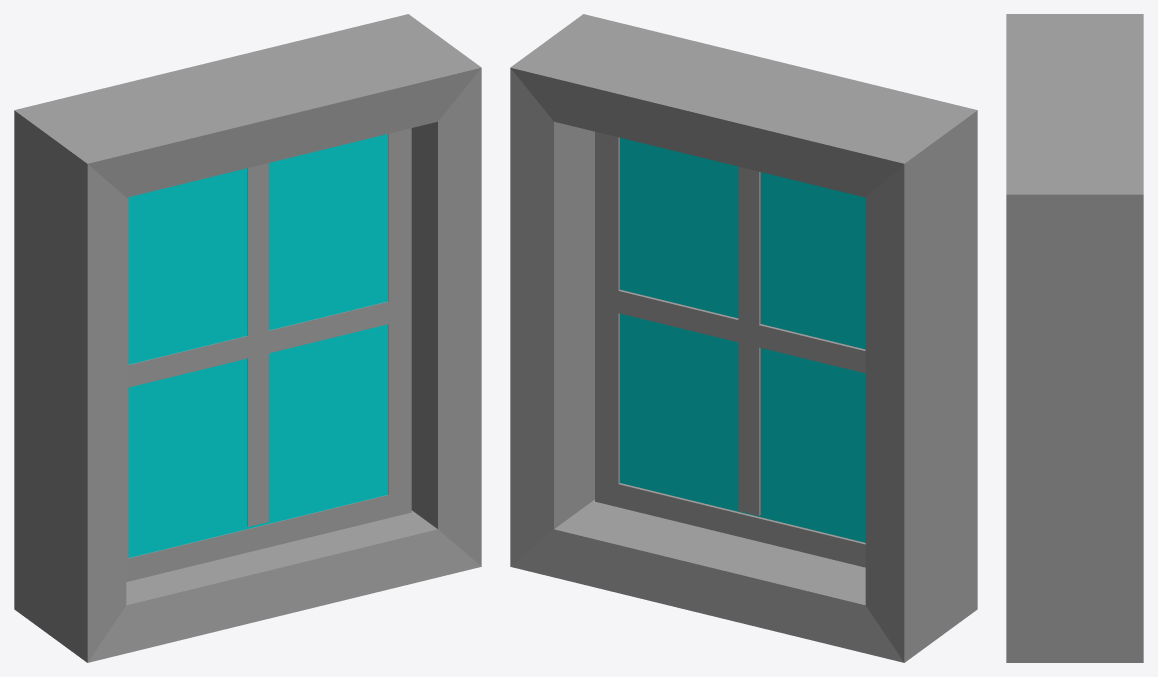
The model's file is WindowC.fbx.
3 views of the same model, side by side, from view 1: azimuth 30°, elevation 25°; view 2: azimuth 150°, elevation 25°; view 3: azimuth 270°, elevation 25° (orthographic). The views are drawn at different scales.
Visible parts, largest first — view 1: WindowC; view 2: WindowC; view 3: WindowC.
Boxes of the visible parts, bbox=[...] form: WindowC: bbox=[14, 14, 481, 662]; WindowC: bbox=[510, 14, 977, 662]; WindowC: bbox=[1006, 14, 1143, 662].
Bounding box in the file's own units: 2.56 × 3.1 × 0.8247.
